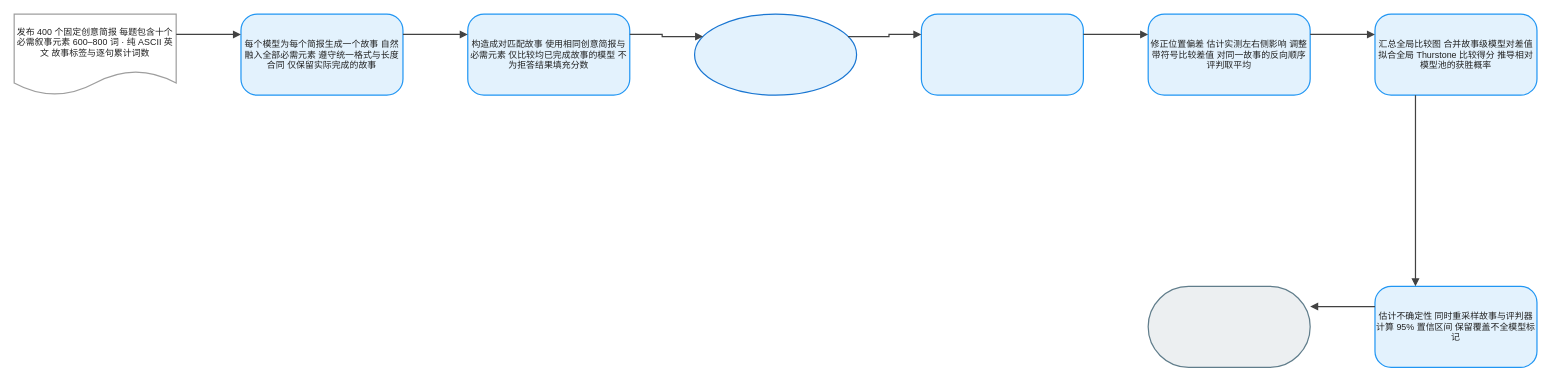
This 1552x382 diagram has some shape labels left out. The centre of each missing label's shape, as x and y in pixels:
发布创意写作排行榜 比较得分 · 获胜概率 · 95% 区间 评判器一致性相关系数 词数合规仅作为诊断项: (1228,326)
解析成对评判 提取胜者标签与带符号差值 保留评判器与故事标识 排除无法解析的评判输出: (1002,54)
评判两种可见故事顺序 使用多个独立评判大模型 分离量表内与量表外观察 降低左右位置影响: (775,54)
